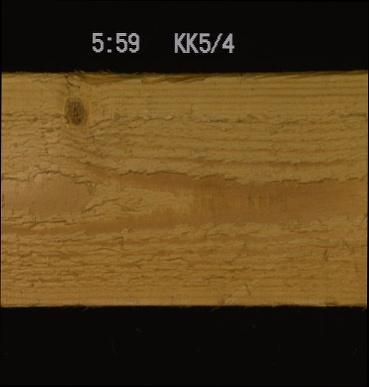sound_knot: (58, 93, 92, 128)
wave: (60, 71, 259, 88)
